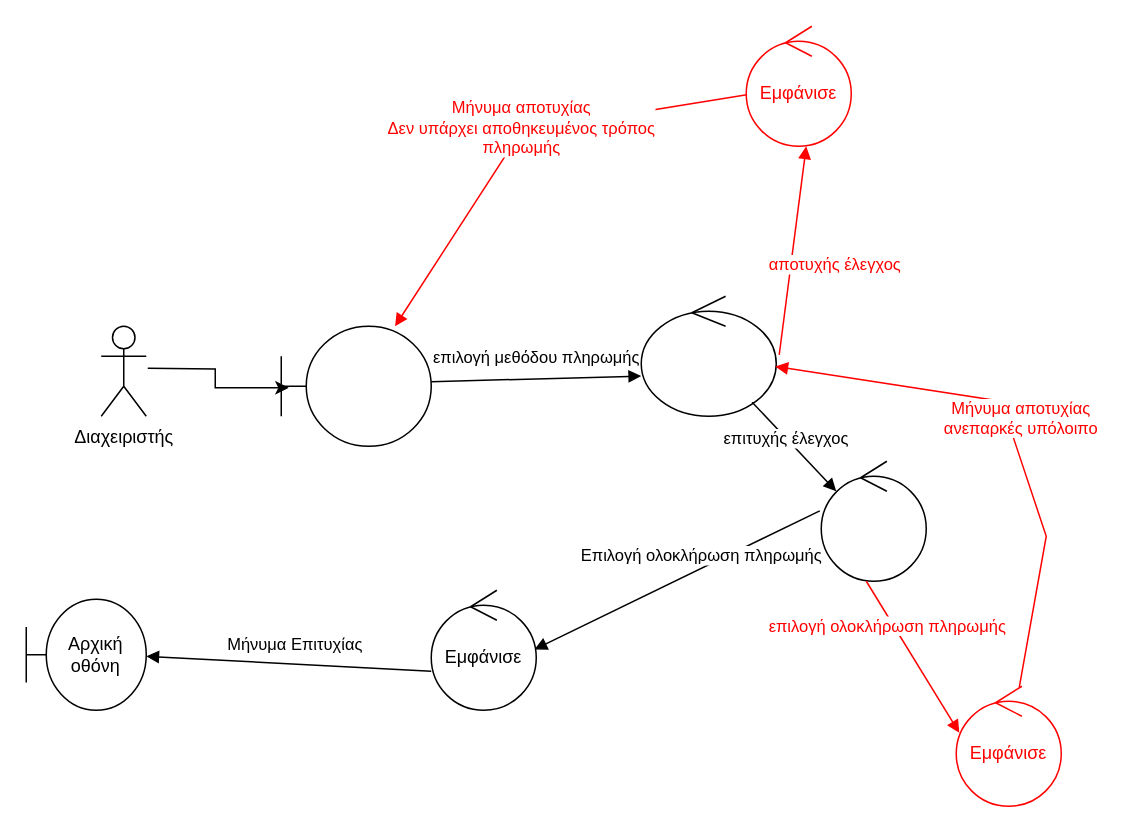
This 1125x833 diagram has some shape labels left out. Each missing label, with the centre of its shape:
Αποθηκευμένος τρόπος πληρωμής;: [708,355]
Οθόνη Πληρωμής: [355,385]
Ολοκλήρωση πληρωμής;: [873,520]
